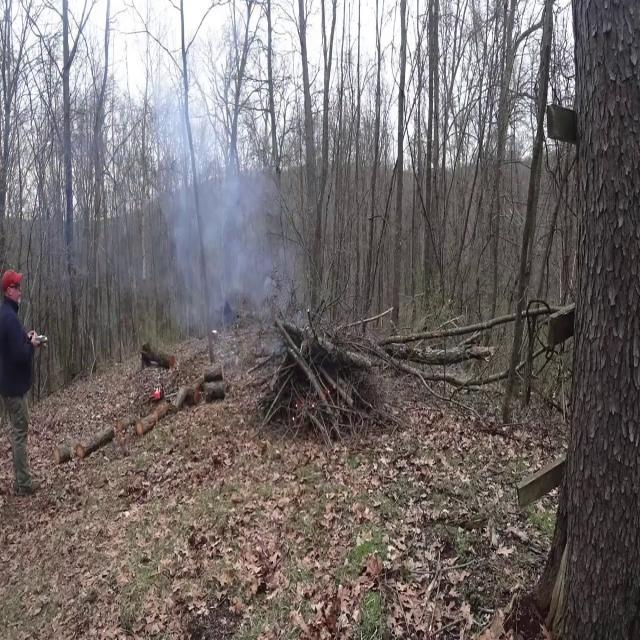Smoke: (148, 39, 292, 344)
